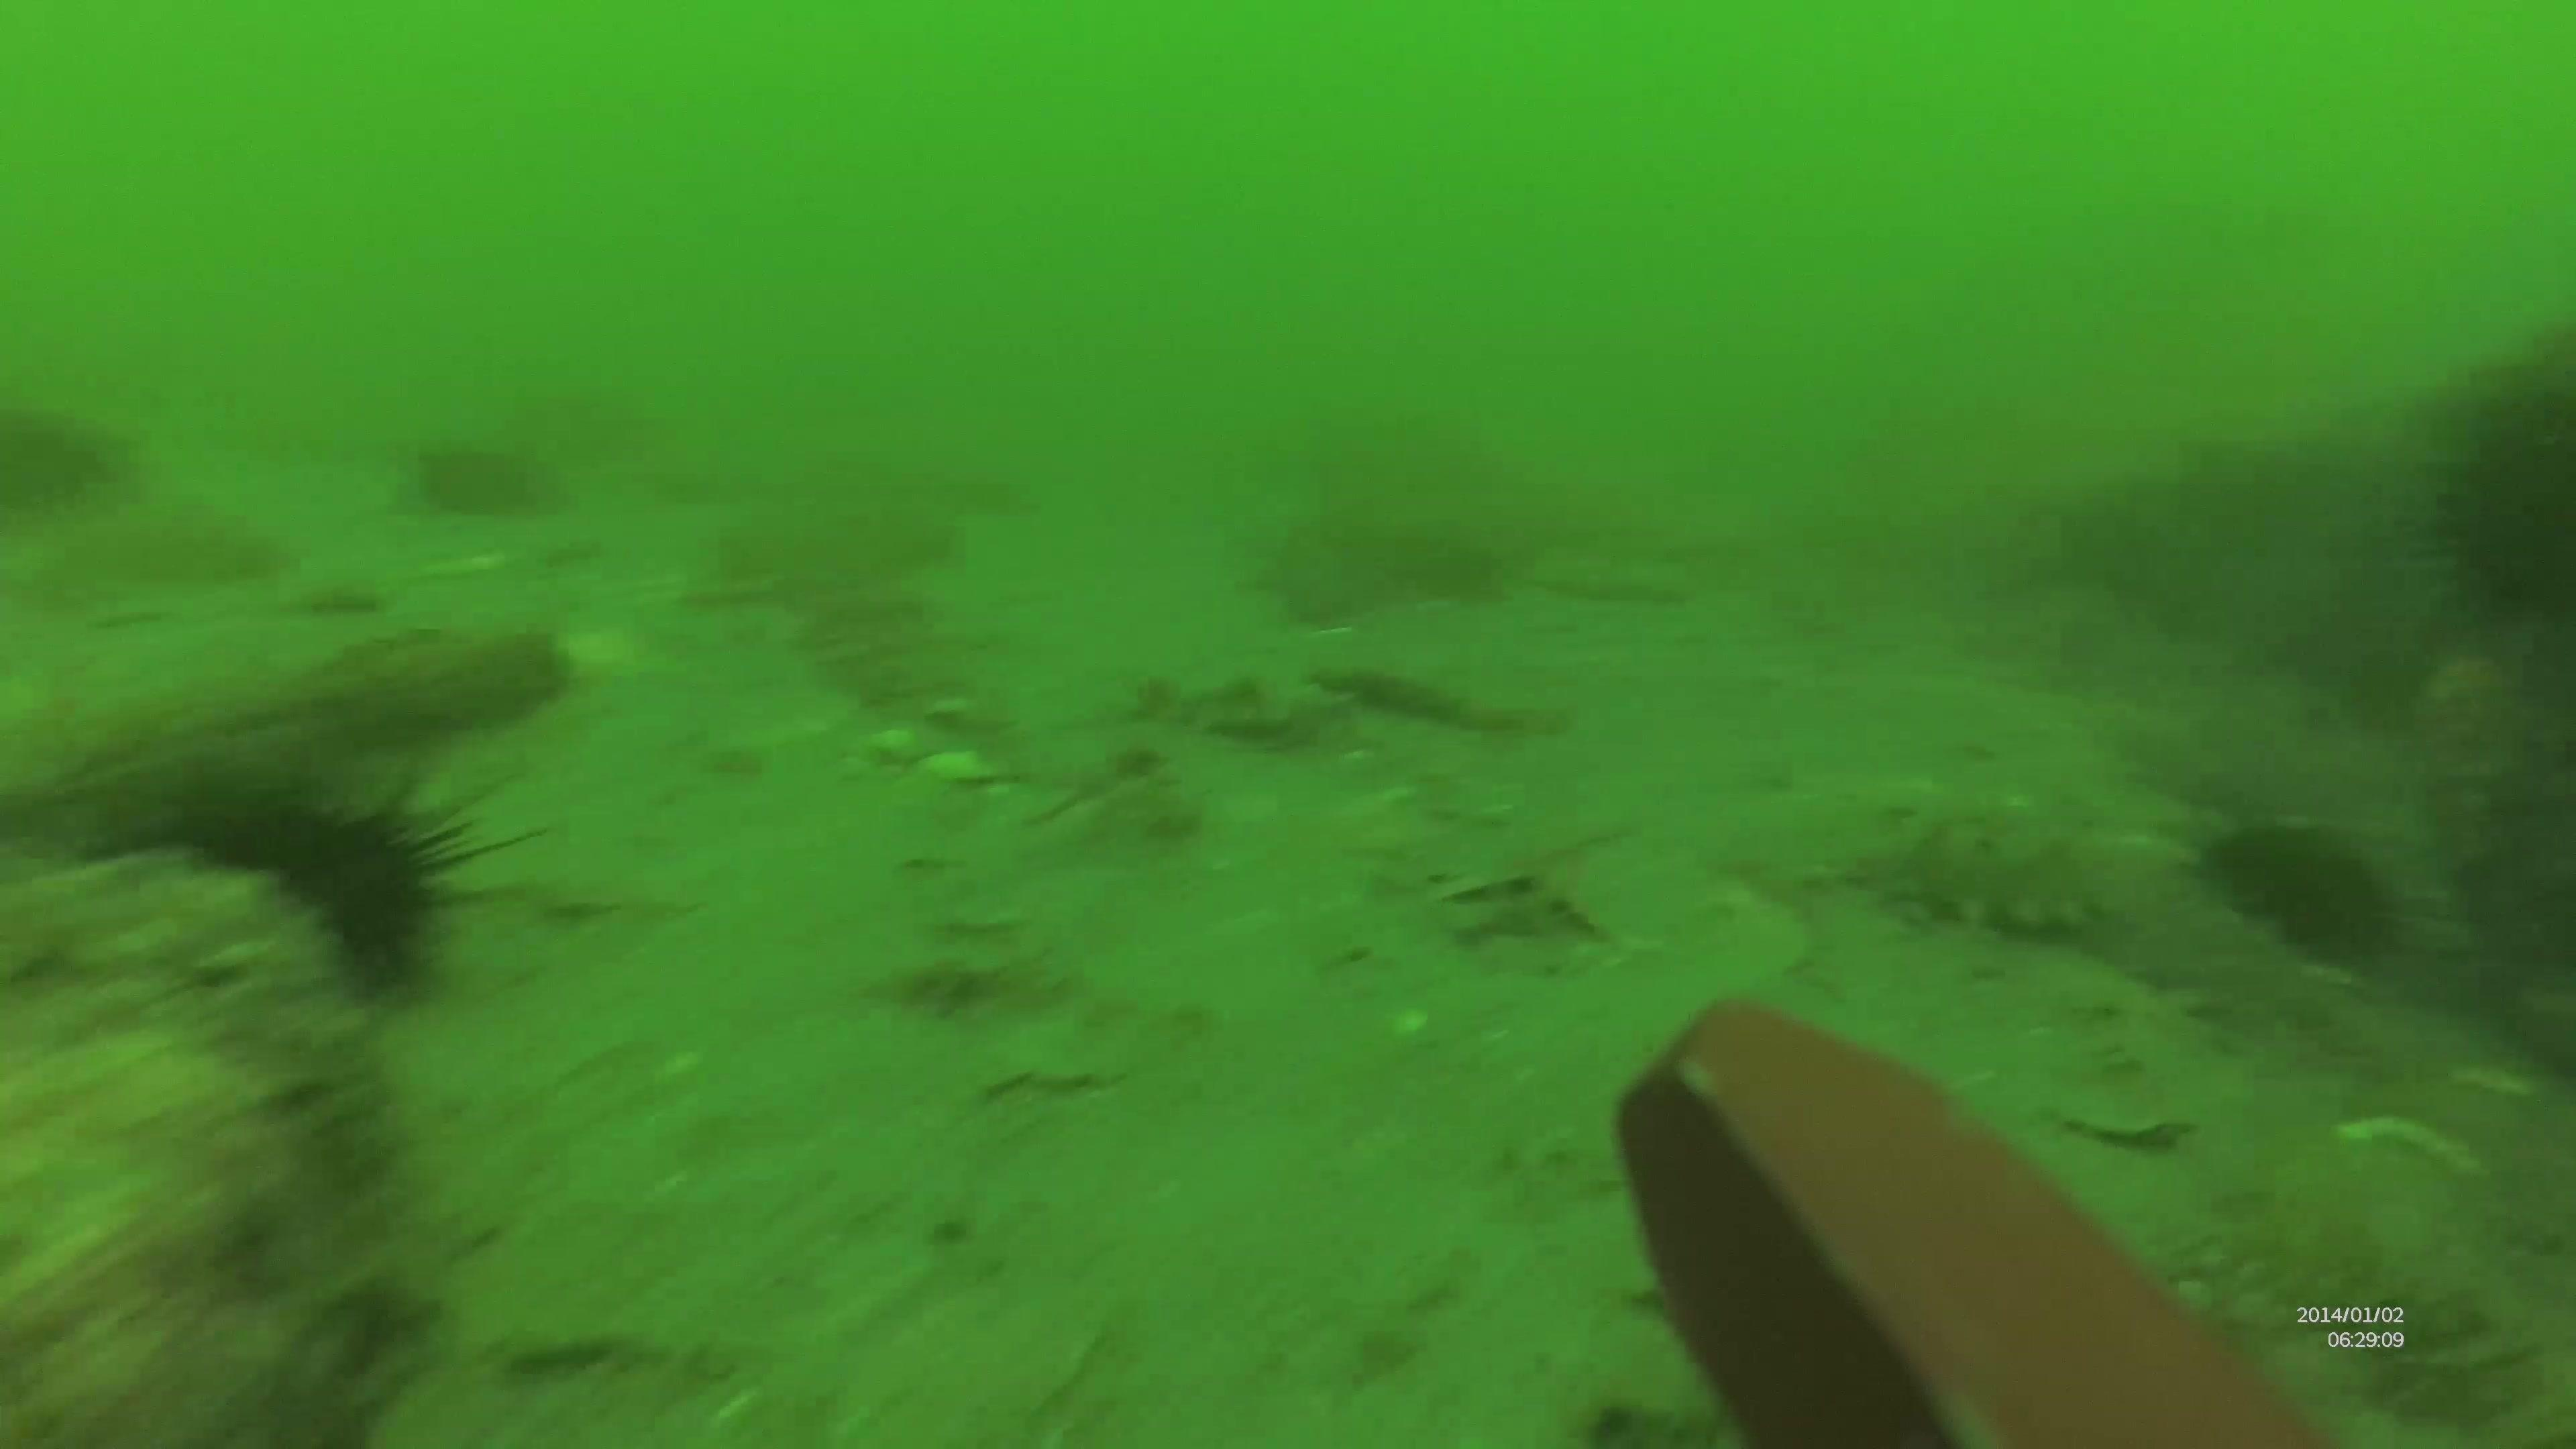echinus: (209, 766, 557, 996), (2436, 357, 2576, 610), (2204, 809, 2397, 970)
holothurian: (1863, 810, 2114, 943)
